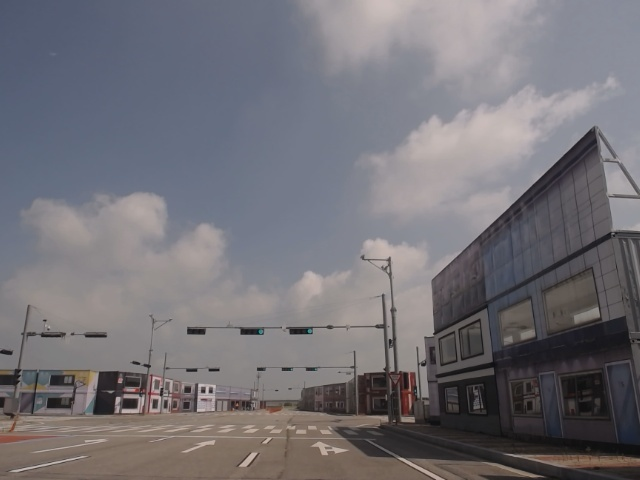straight_green_4: (241, 328, 264, 337), (290, 329, 314, 335)
